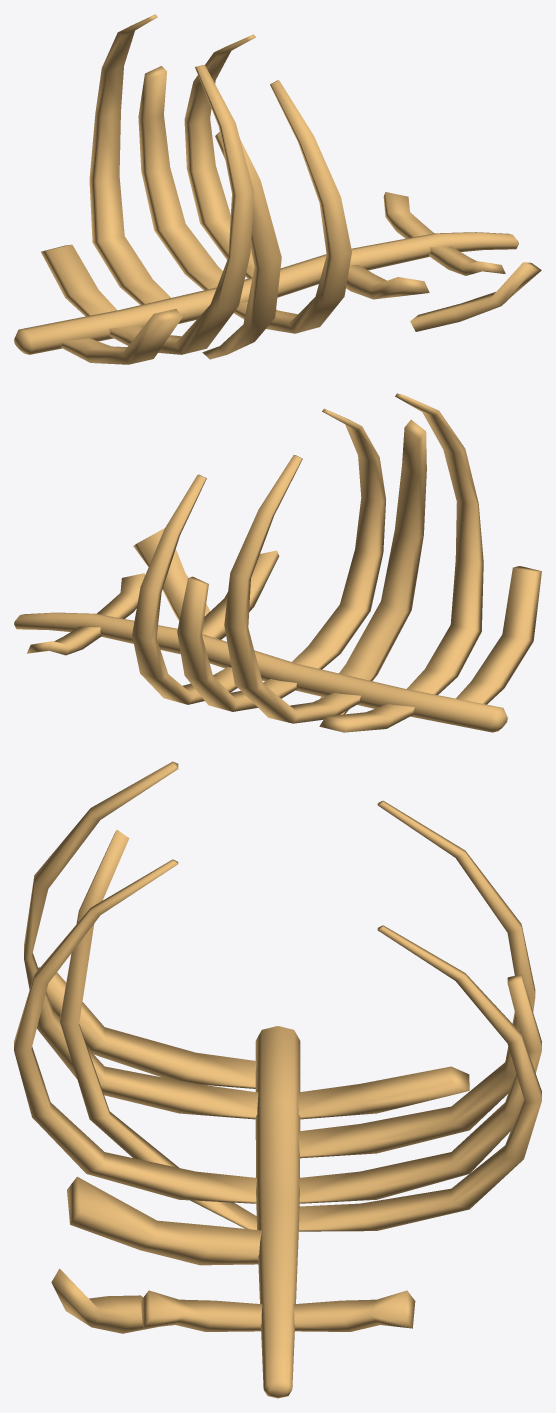
The model's file is Bones_06.fbx.
The picture shows the model from 3 angles, top to bottom: view 1: azimuth 30°, elevation 25°; view 2: azimuth 150°, elevation 25°; view 3: azimuth 270°, elevation 25°; orthographic projection. The views are drawn at different scales.
Parts seen in each view (by area): view 1: Bones_06; view 2: Bones_06; view 3: Bones_06.
Boxes of the visible parts, x1,y1,x2,y2 form: Bones_06: (14,14,541,364); Bones_06: (14,393,541,732); Bones_06: (14,761,541,1398).
Bounding box in the file's own units: 269 × 166 × 182.
